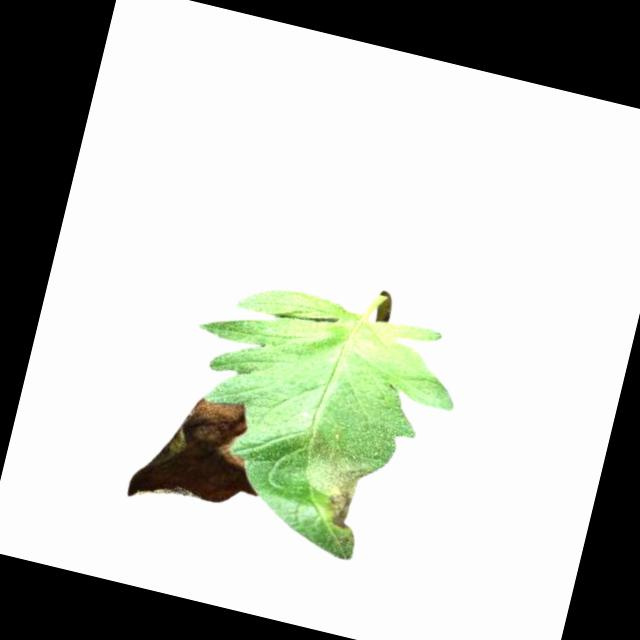Late_blight: (123, 381, 279, 527), (292, 432, 377, 535)
